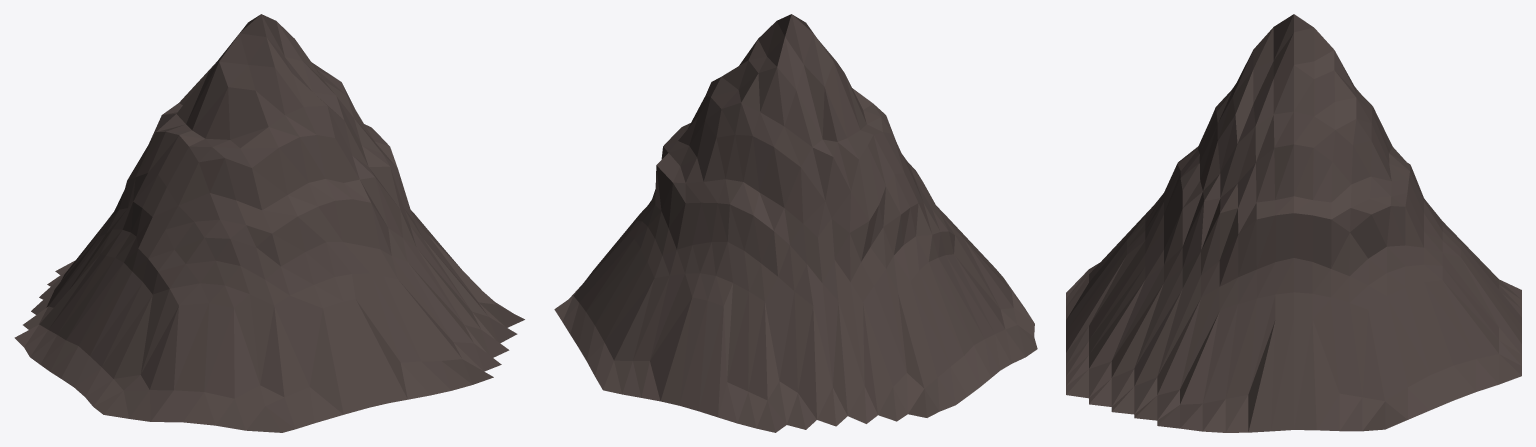
Rendered from Mountain_1.fbx.
The picture shows the model from 3 angles, left to right: view 1: azimuth 30°, elevation 25°; view 2: azimuth 150°, elevation 25°; view 3: azimuth 270°, elevation 25°; orthographic projection. The views are drawn at different scales.
Parts seen in each view (by area): view 1: Mountain01; view 2: Mountain01; view 3: Mountain01.
Boxes of the visible parts, x1,y1,x2,y2 form: Mountain01: (14, 14, 524, 432); Mountain01: (554, 14, 1037, 432); Mountain01: (1066, 14, 1521, 432).
Bounding box in the file's own units: 9994 × 7629 × 9617.
1 material, 1 textured.
